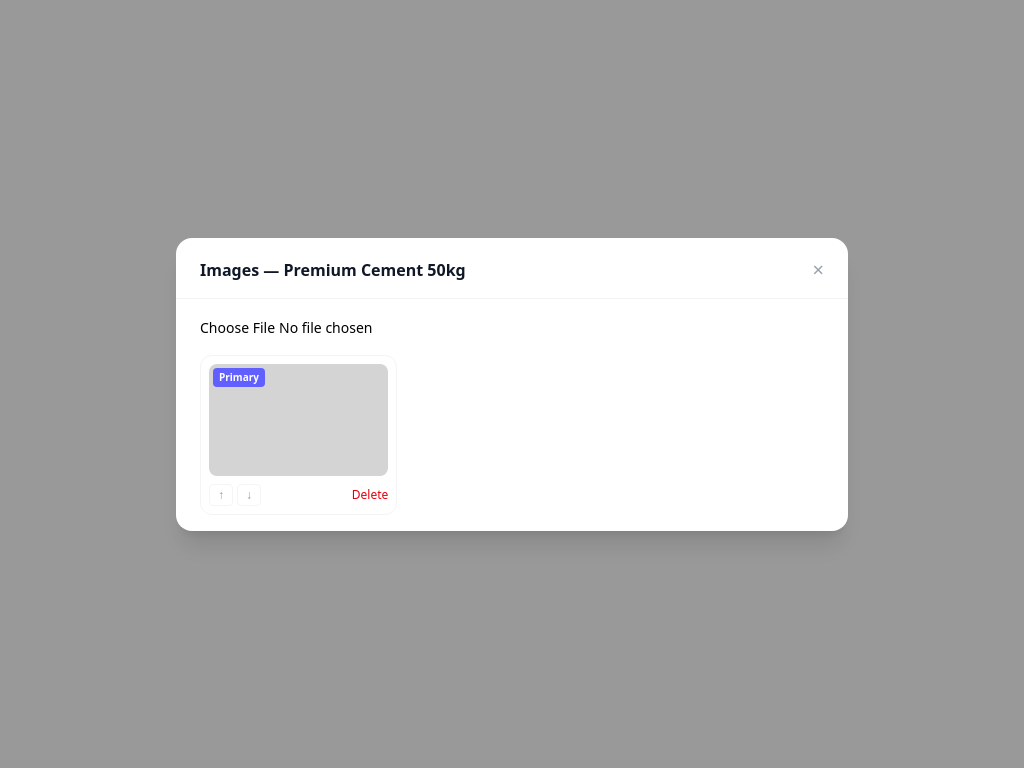
Test case: ProductImagesModal › shows an error and keeps the image when delete fails
Step 1. Click the button "Delete" → (370, 494), box top-left (352, 486), bottom-right (388, 502)
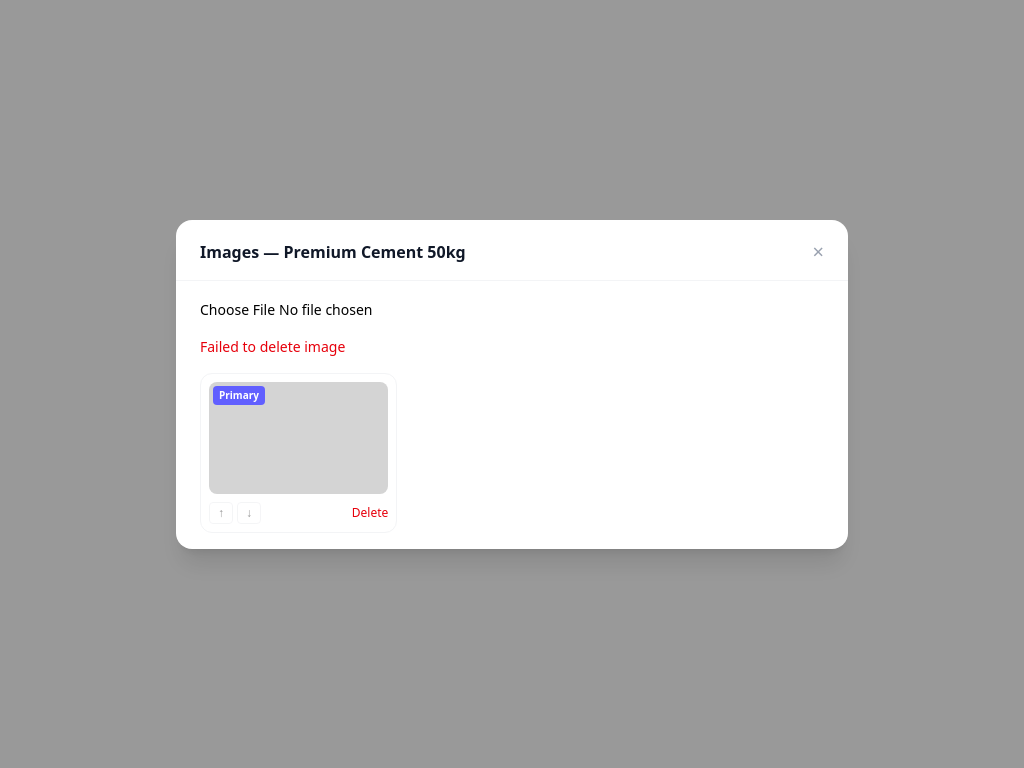
Now the text "Failed to delete image" is shown, box top-left (200, 336), bottom-right (345, 356)
